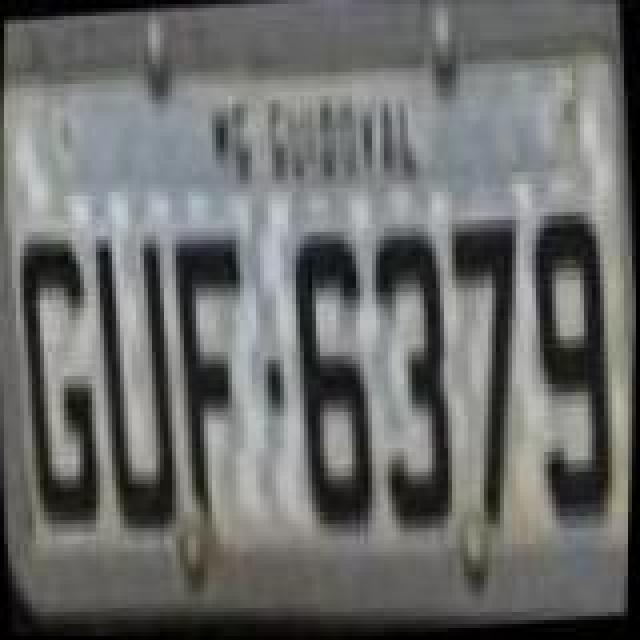3: (360, 226, 468, 542)
6: (286, 226, 390, 538)
7: (438, 220, 542, 536)
9: (524, 206, 628, 530)
F: (162, 228, 266, 524)
G: (6, 228, 110, 532)
U: (86, 224, 190, 536)
